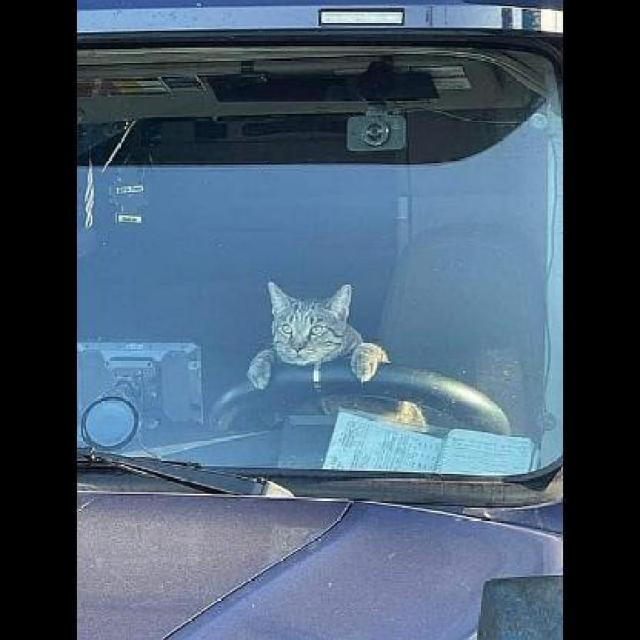unauthorized: (244, 278, 390, 391)
